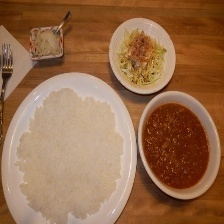rice: (10, 84, 127, 223)
